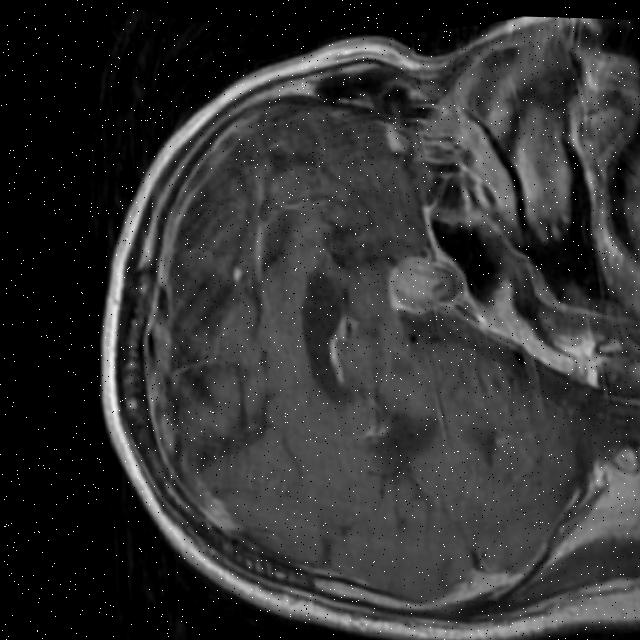Pituitary: (386, 254, 466, 314)
